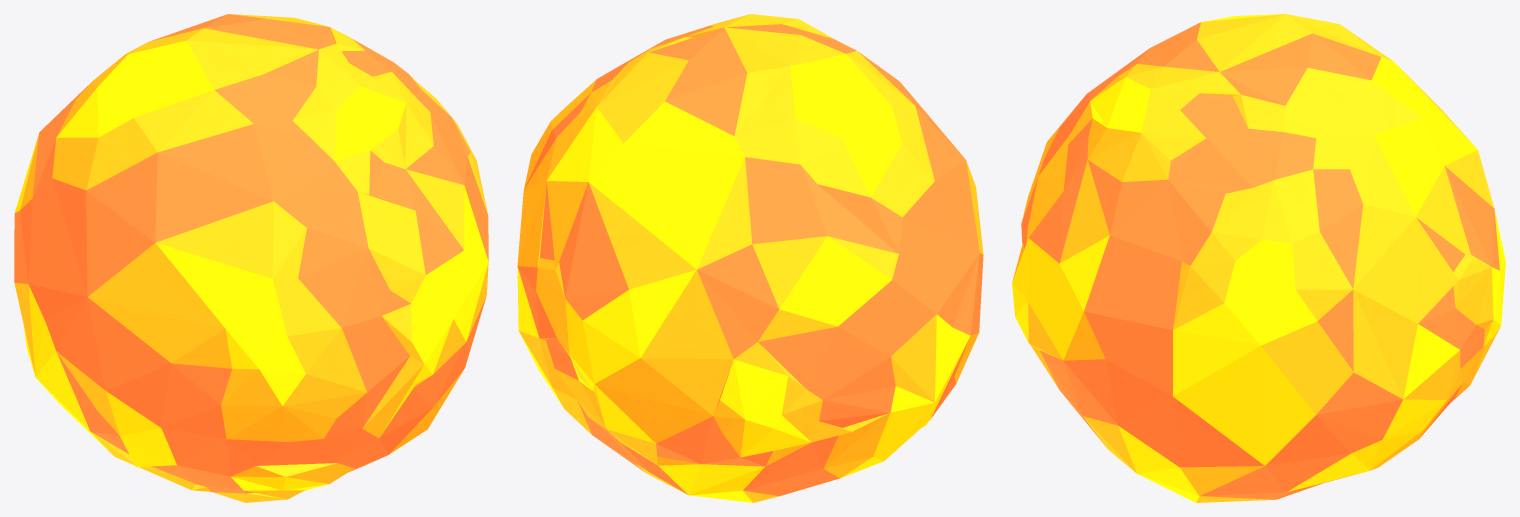
The model's file is PolyStar.glb.
3 renders of one model, left to right at view 1: azimuth 30°, elevation 25°; view 2: azimuth 150°, elevation 25°; view 3: azimuth 270°, elevation 25°, orthographic.
Visible parts, largest first — view 1: Icosphere.040; view 2: Icosphere.040; view 3: Icosphere.040.
Part boxes in pixels (x1,y1,x2,y2): Icosphere.040: (14, 14, 488, 502); Icosphere.040: (517, 14, 983, 502); Icosphere.040: (1012, 14, 1505, 502).
Bounding box in the file's own units: 6.41 × 6.32 × 6.39.
1 material, 1 textured.
